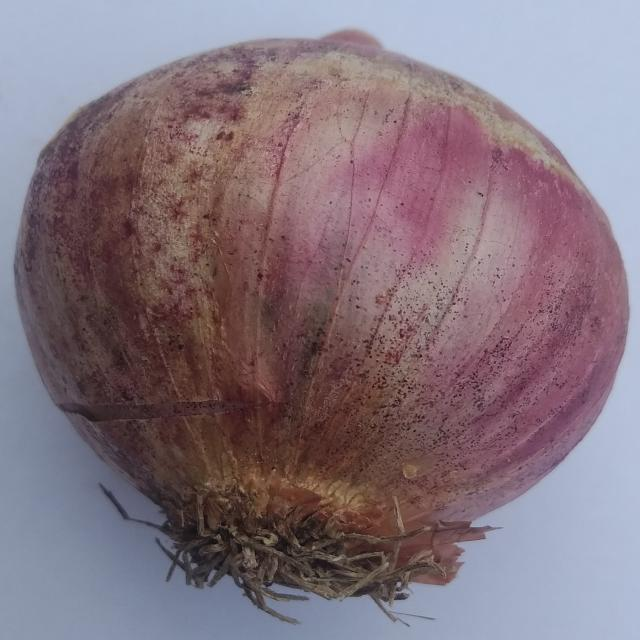onion: (12, 27, 630, 628)
